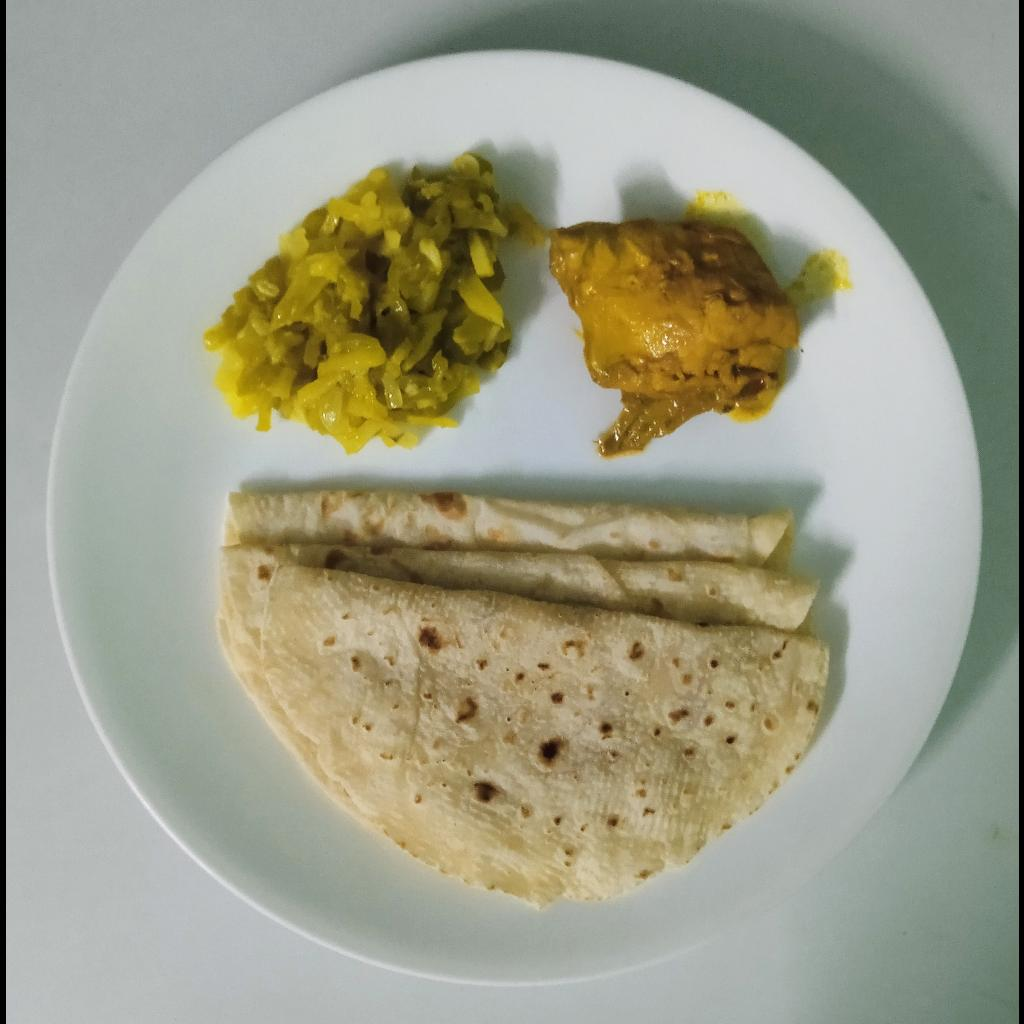chicken: (548, 219, 801, 456)
ruti: (217, 489, 830, 913)
vegetable: (204, 147, 543, 459)
